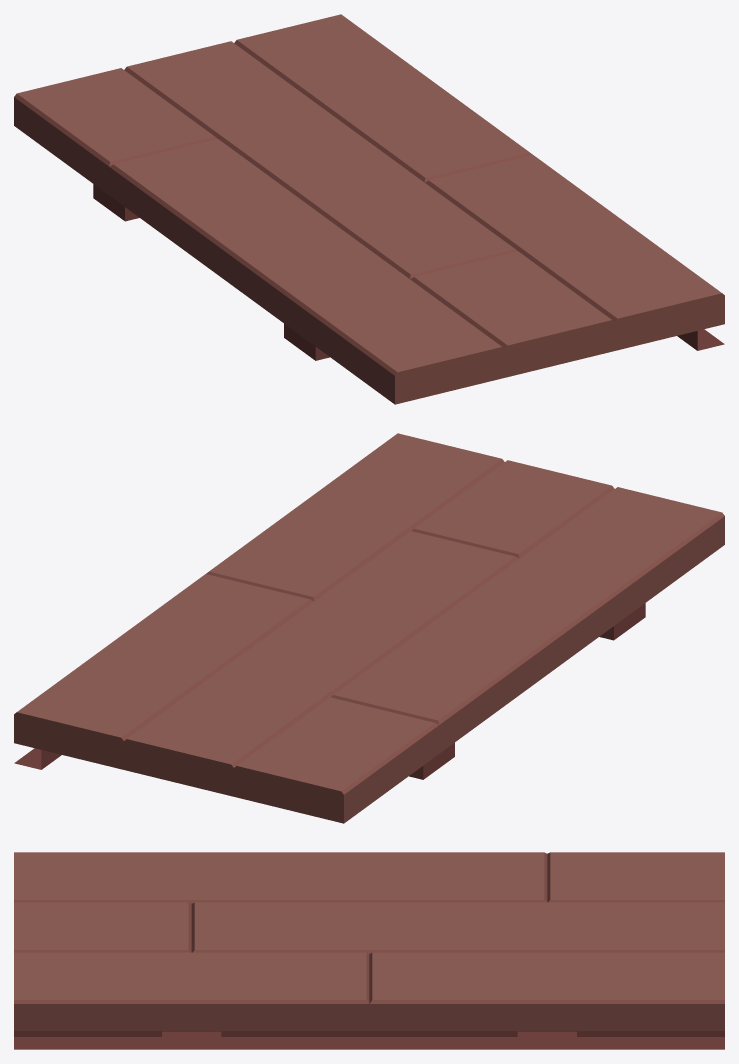
File: Floor_1.fbx
3 renders of one model, top to bottom at view 1: azimuth 30°, elevation 25°; view 2: azimuth 150°, elevation 25°; view 3: azimuth 270°, elevation 25°, orthographic. The views are drawn at different scales.
Visible parts, largest first — view 1: Floor_1; view 2: Floor_1; view 3: Floor_1.
Part boxes in pixels (box(x1,y1,x2,y2)): Floor_1: box(14, 14, 724, 404); Floor_1: box(14, 433, 724, 823); Floor_1: box(14, 852, 724, 1049).
Bounding box in the file's own units: 1.2 × 2.4 × 0.18.
